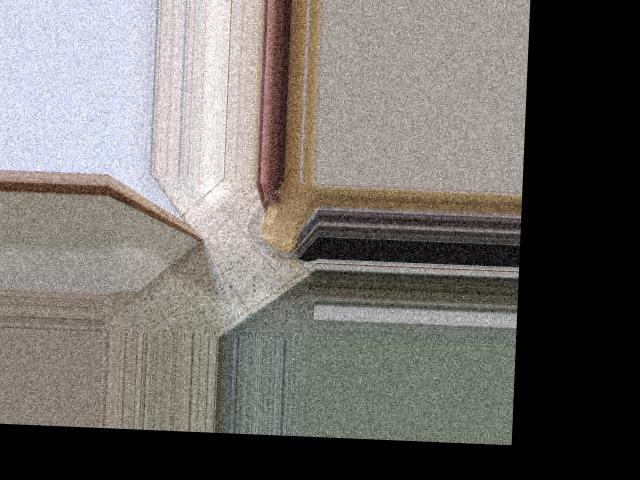cheese: (247, 178, 321, 259)
